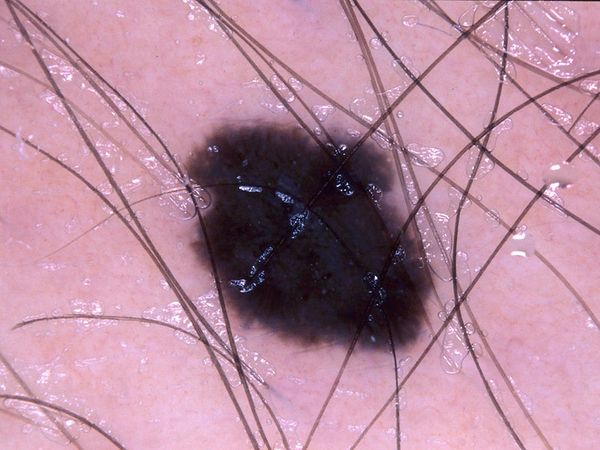Detected Lesion: (173, 103, 439, 361)
